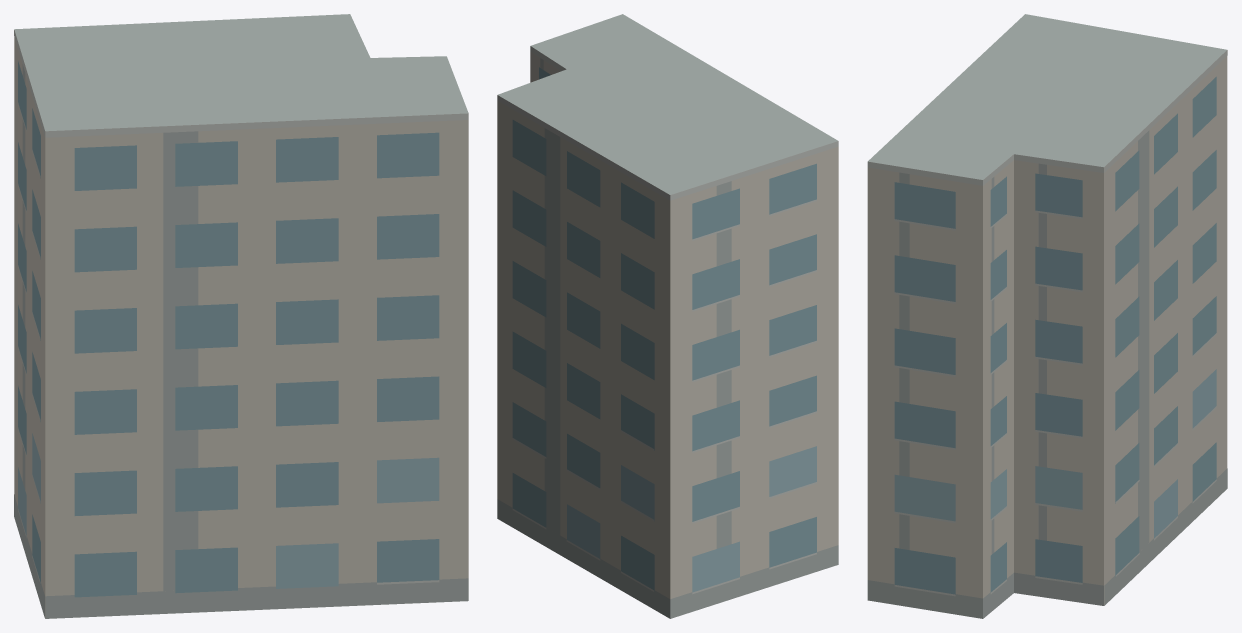
The model's file is survey-upis-32501400.glb.
3 renders of one model, left to right at view 1: azimuth 30°, elevation 25°; view 2: azimuth 150°, elevation 25°; view 3: azimuth 270°, elevation 25°, orthographic. The views are drawn at different scales.
Parts seen in each view (by area): view 1: survey-upis-32501400.tmp; view 2: survey-upis-32501400.tmp; view 3: survey-upis-32501400.tmp.
Part boxes in pixels (x1=…): survey-upis-32501400.tmp: x1=14, y1=14, x2=468, y2=618; survey-upis-32501400.tmp: x1=497, y1=14, x2=838, y2=618; survey-upis-32501400.tmp: x1=867, y1=14, x2=1227, y2=618.
Size of the model in its own units: 14.86 by 18.3 by 13.61.
